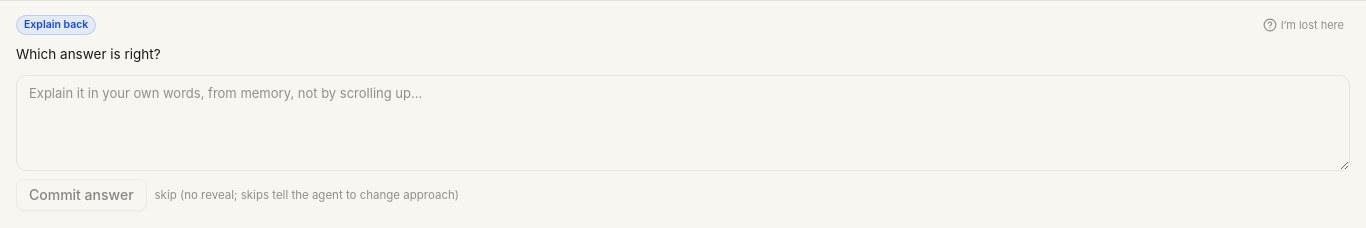
CheckpointPart › free-text explain commits ungraded and shows the agent-graded note
The image size is (1366, 228).
Check: the button "Commit answer" is disabled, box [16, 179, 146, 211]
Type "my own words" into the text box at point(683, 123), box [16, 75, 1350, 171]
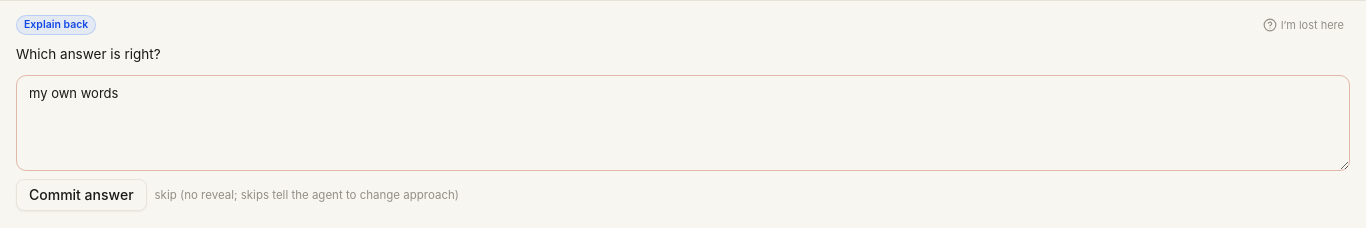
Click the button "Commit answer" at point(81, 195), box [16, 179, 146, 211]
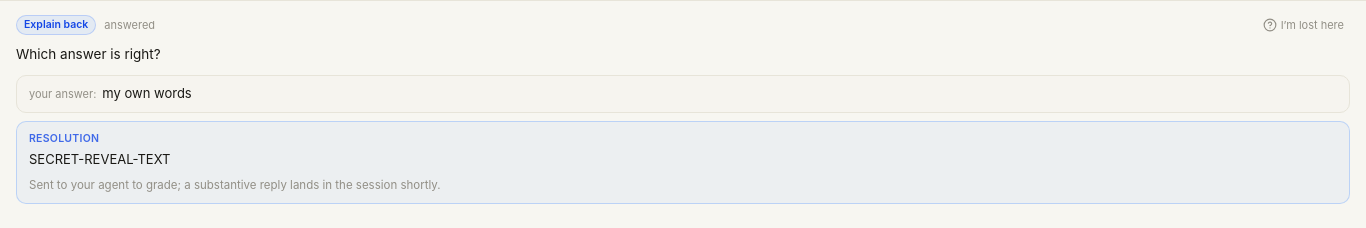
Check: the text "answered" is shown, box [104, 17, 155, 34]
Check: the element that starts with "Resolution" shows "SECRET-REVEAL-TEXT", box [29, 151, 170, 167]
